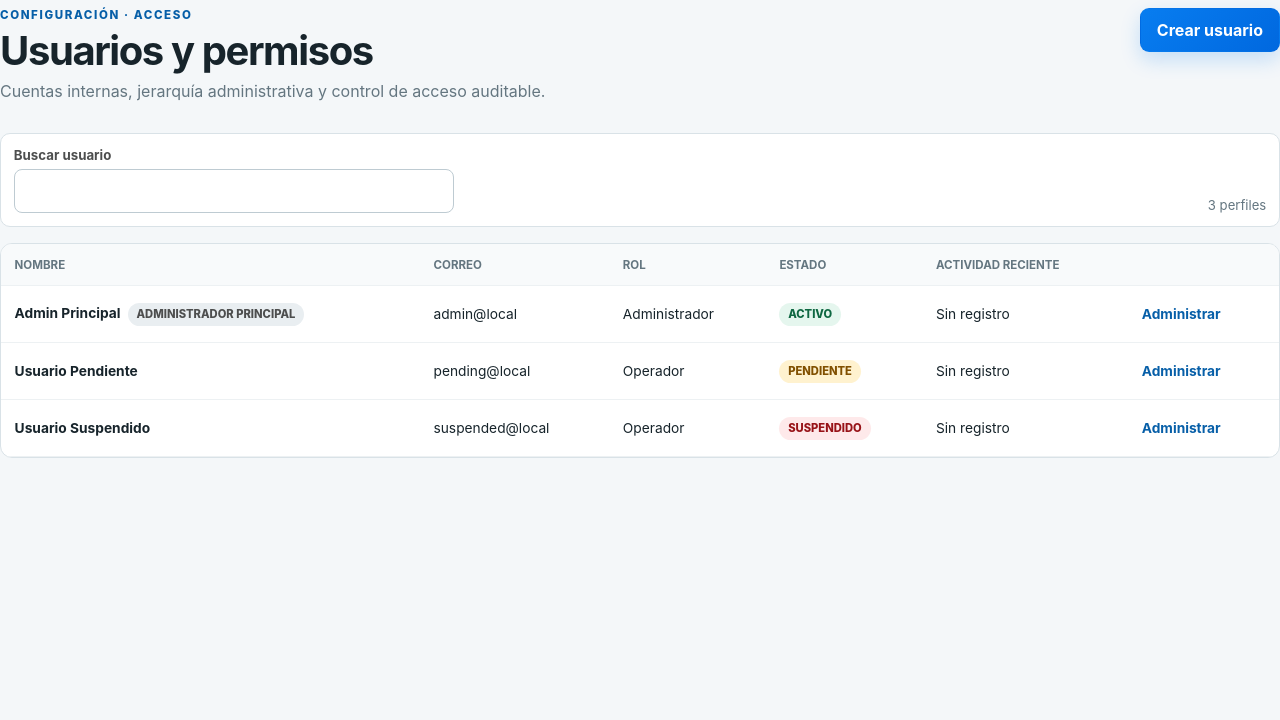
Test: UsersPage › shows only active and inactive as administrative choices and preserves historical states
Click the button "Administrar" in the row of "Usuario Pendiente" at (1181, 371), box x1=1135 y1=357 x2=1227 y2=386
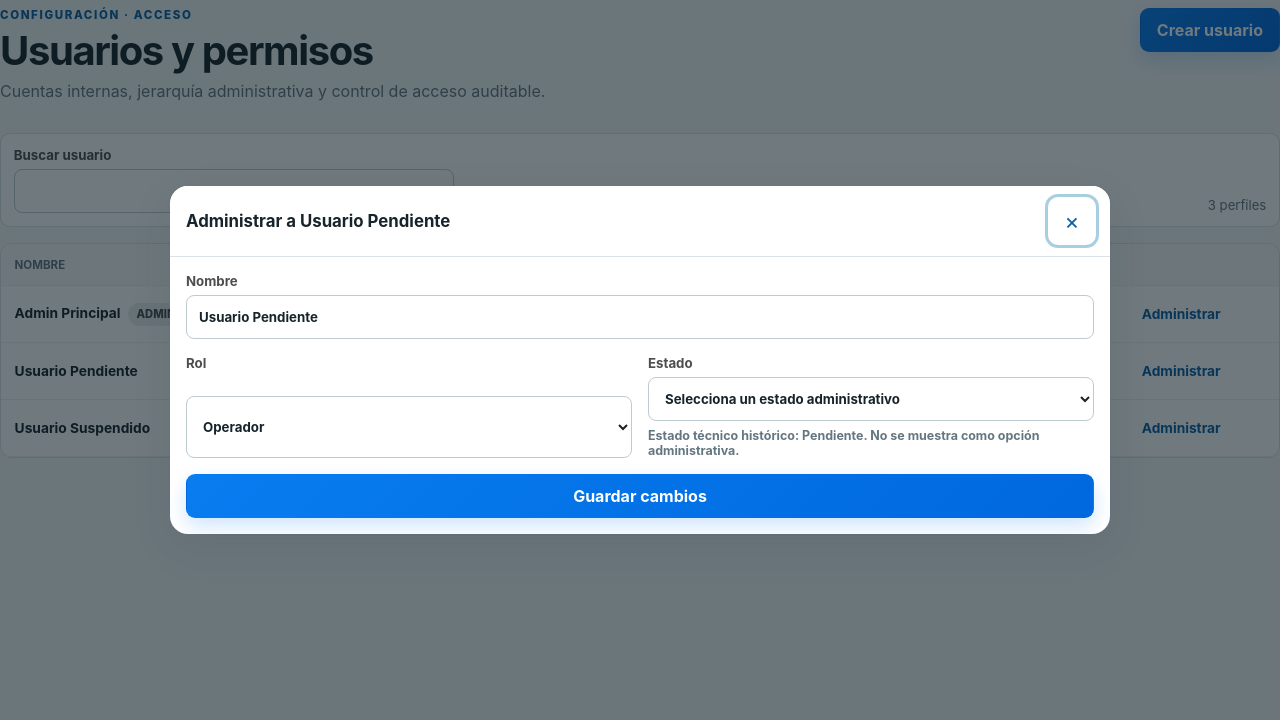
Now the text "Estado técnico histórico: Pendiente" is shown, box x1=648 y1=428 x2=1094 y2=458
